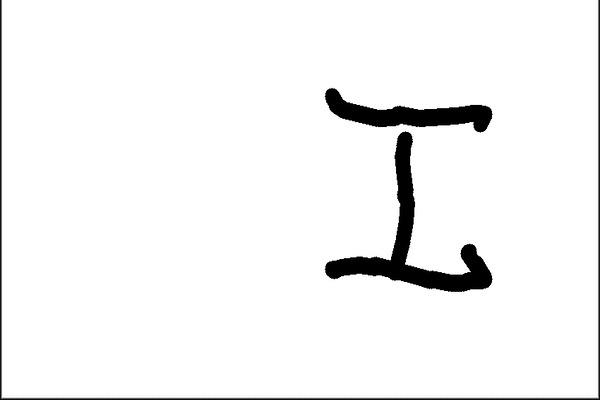i: (316, 74, 504, 300)
